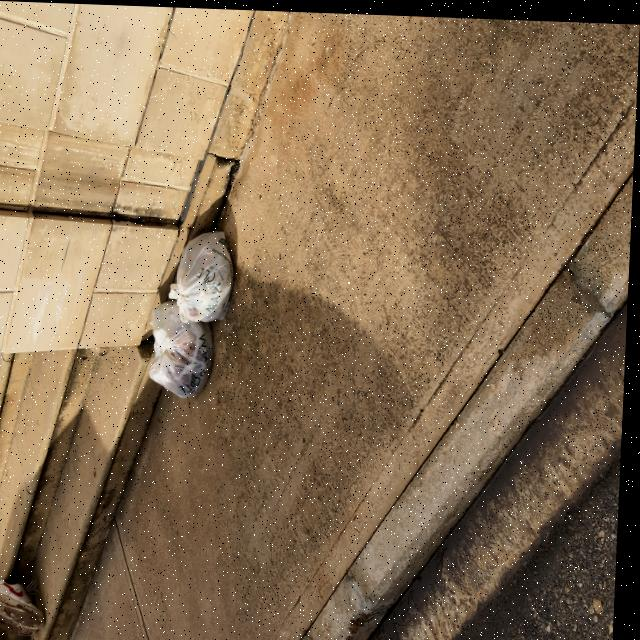Organic Waste -White Bag-: (149, 303, 223, 401), (172, 225, 239, 323)
Other: (1, 570, 54, 640)
